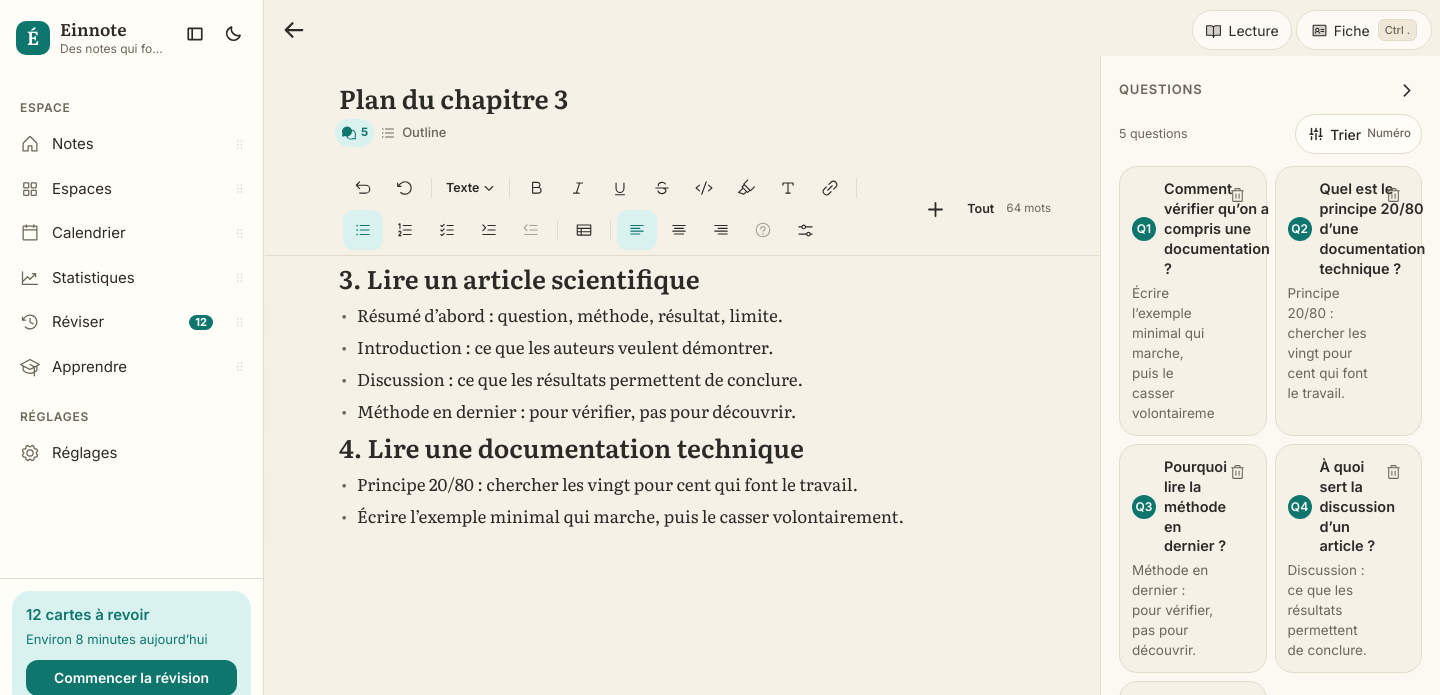
Les tableaux › insère un tableau, et le garde dans la note
Click the button named "Tableau": (584, 230) left=564, top=210, right=604, bottom=250
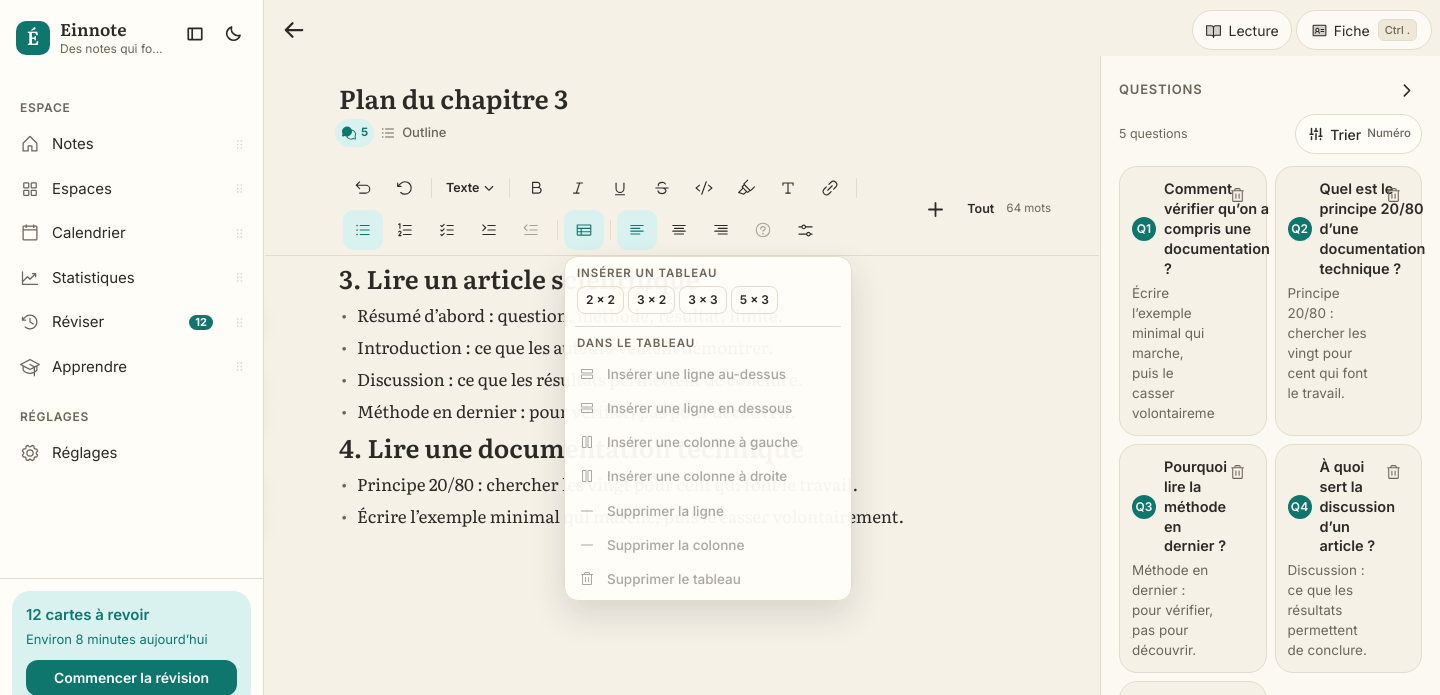
Click the button named "Insérer un tableau 2 lignes et 2 colonnes": (601, 300) left=577, top=286, right=624, bottom=314
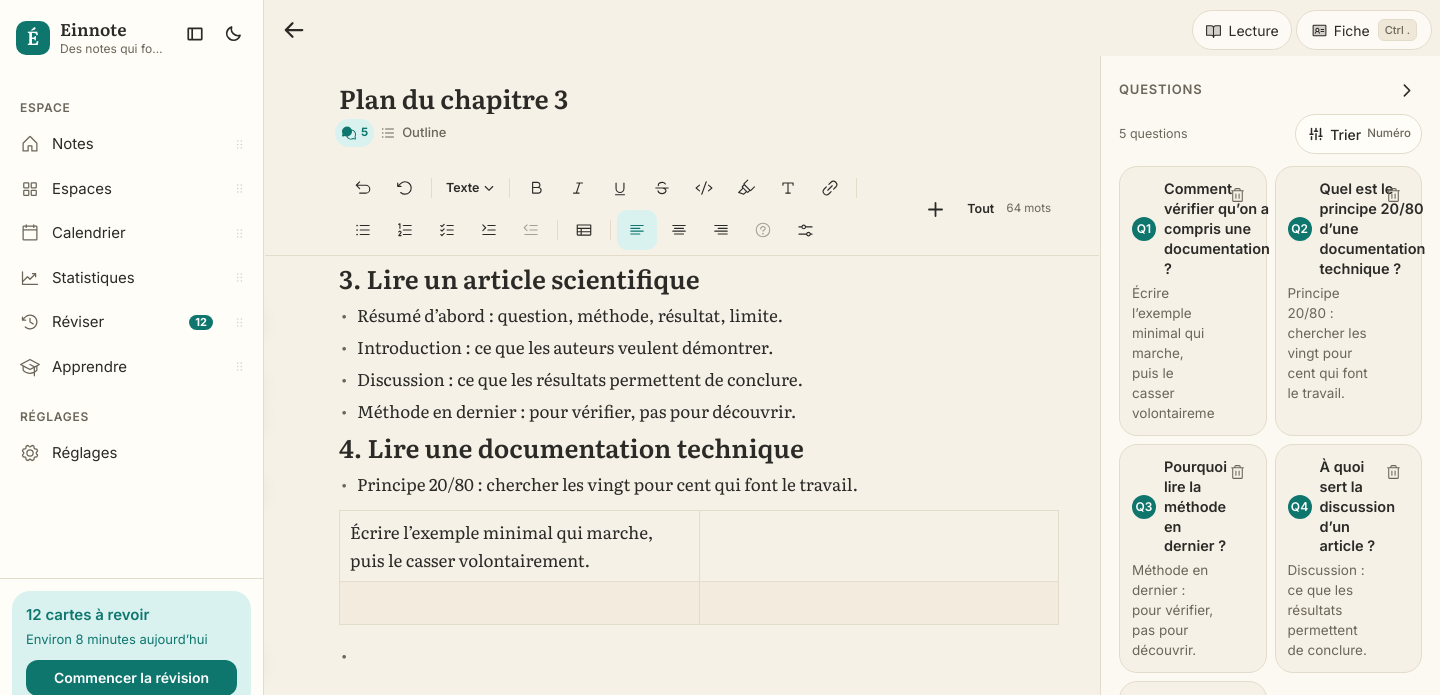
Expected: the table is shown, left=339, top=510, right=1059, bottom=625
Expected: the number of rows is 2, left=340, top=511, right=1058, bottom=582; left=340, top=582, right=1058, bottom=625
Expected: the number of cells is 4, left=340, top=511, right=699, bottom=582; left=699, top=511, right=1058, bottom=582; left=340, top=582, right=699, bottom=625; left=699, top=582, right=1058, bottom=625
